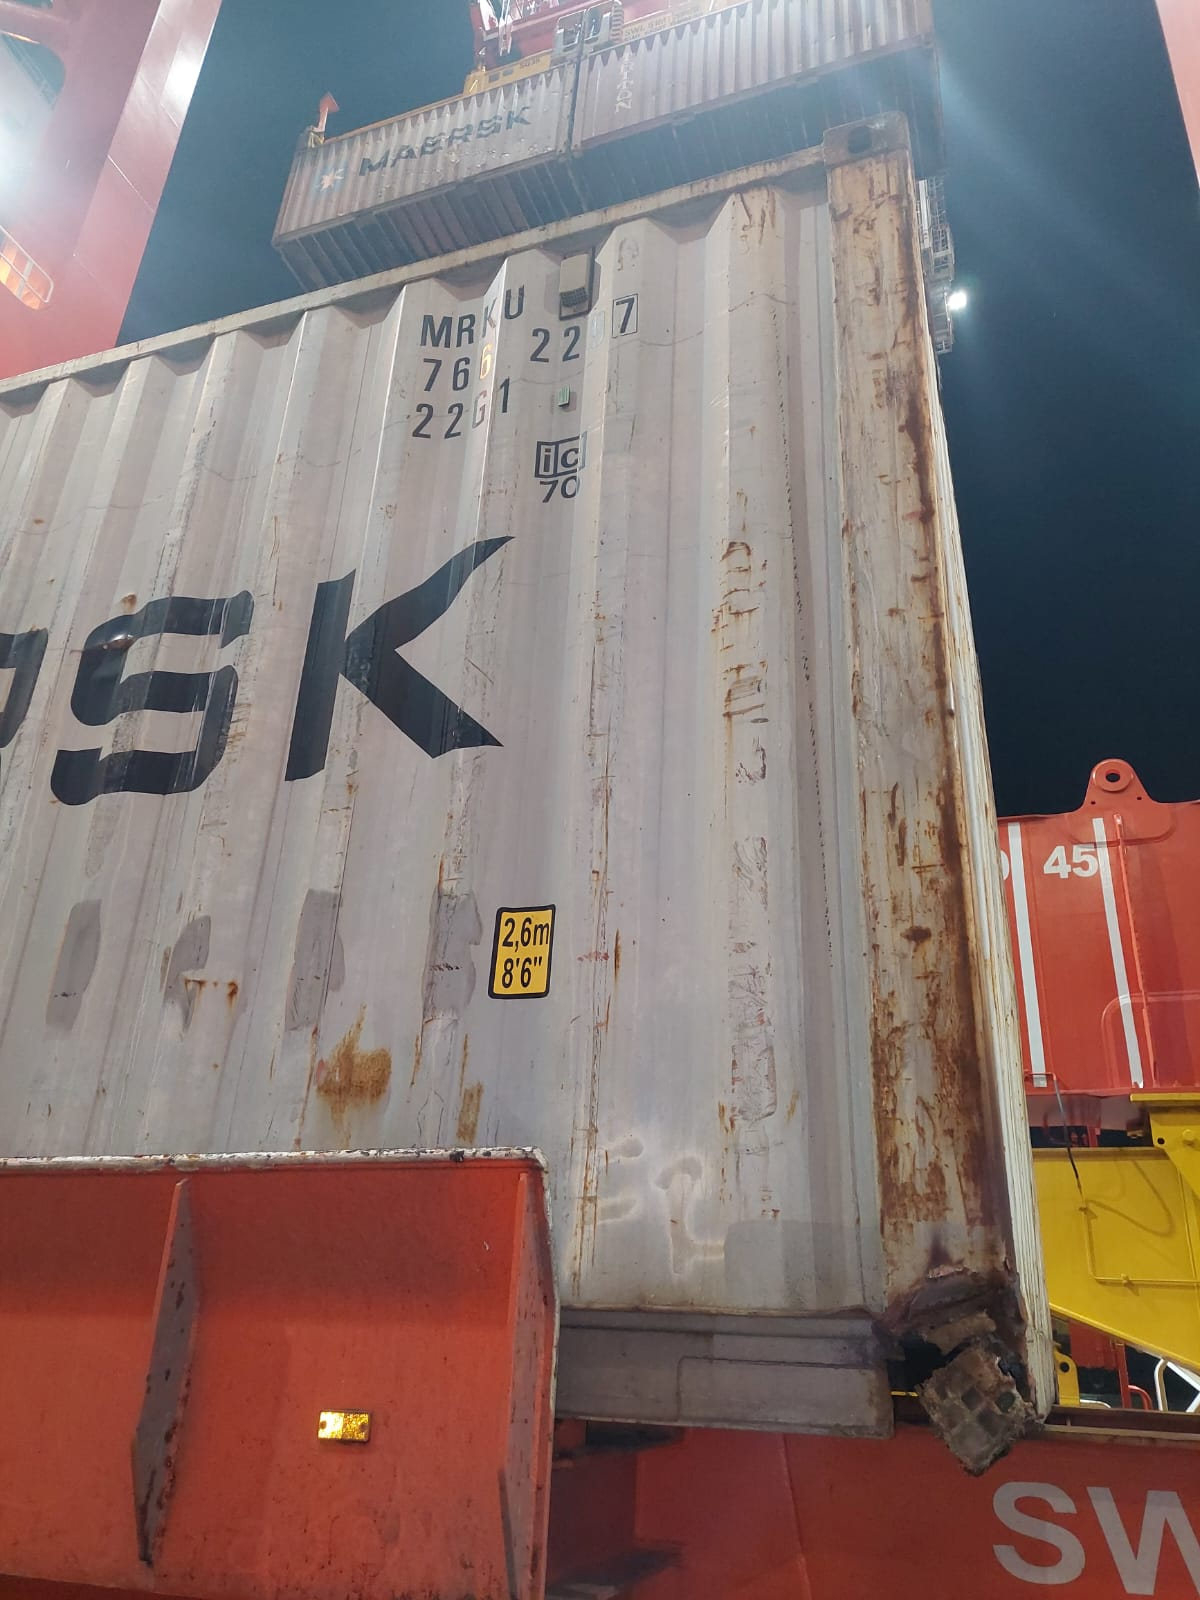dented: (802, 1135, 1058, 1435)
rust: (834, 333, 987, 1159)
